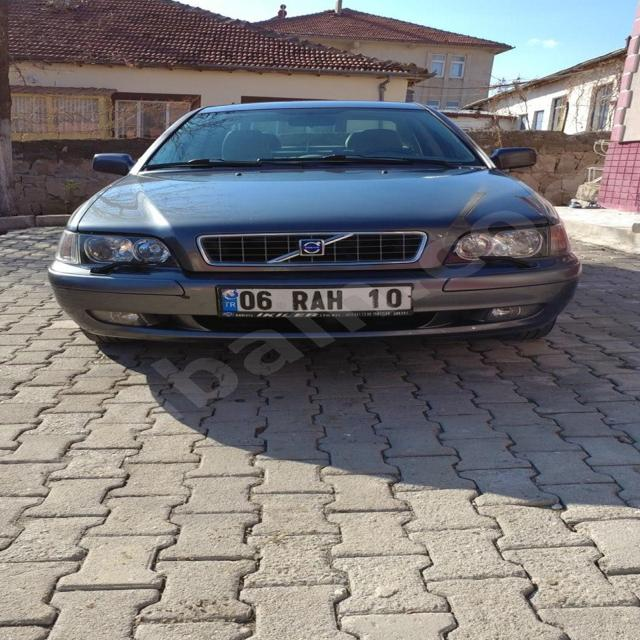license_plate: (218, 285, 413, 312)
